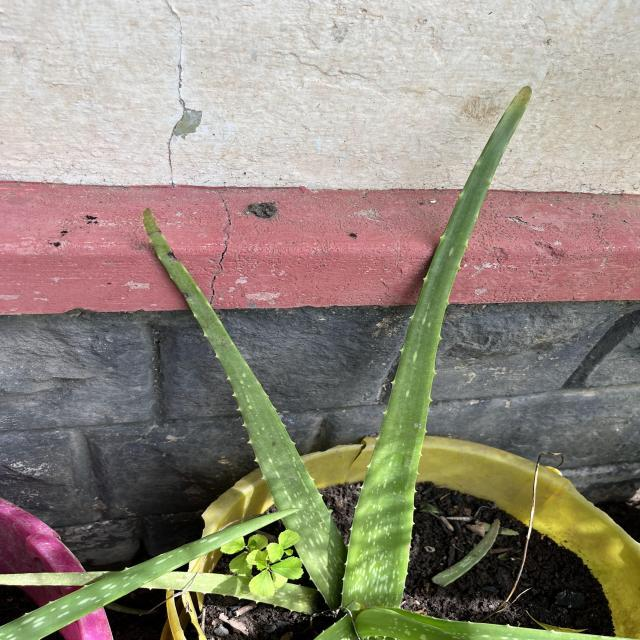Aloe vera: (339, 82, 536, 612)
